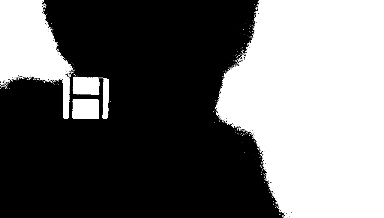H: (62, 76, 108, 119)
